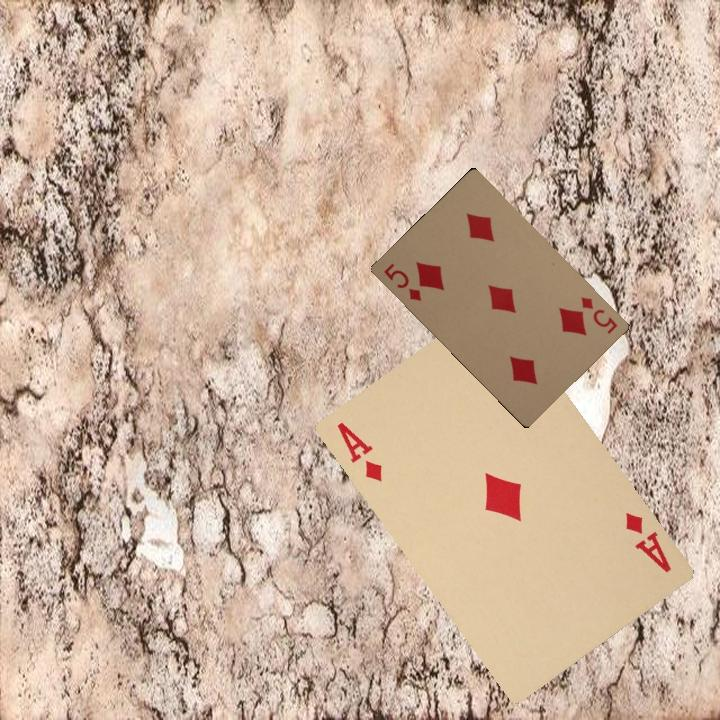5d: (380, 259, 424, 304), (576, 293, 620, 336)
Ad: (621, 509, 674, 576), (333, 418, 385, 485)
